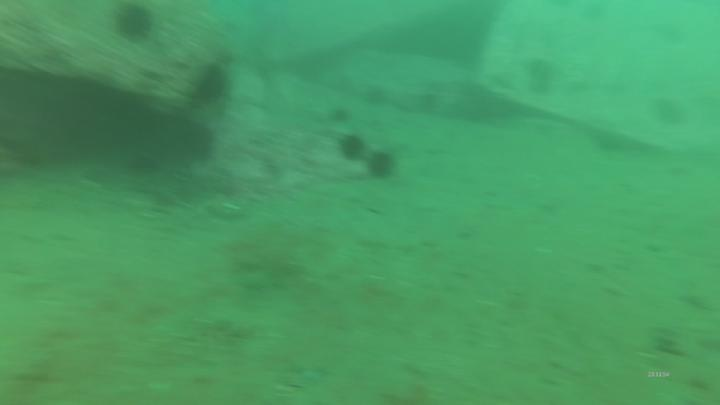echinus: (113, 2, 159, 46), (363, 145, 398, 184), (337, 132, 369, 161)
